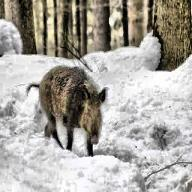boar: (26, 63, 108, 156)
